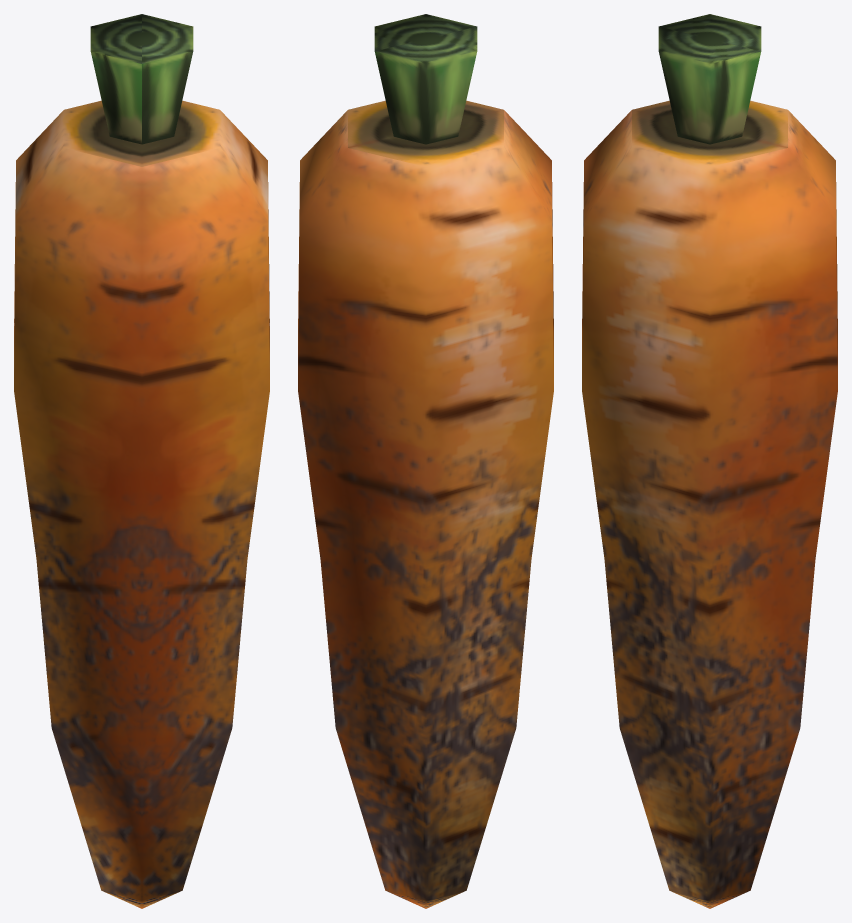
Rendered from plant_carrot.gltf.
3 renders of one model, left to right at view 1: azimuth 30°, elevation 25°; view 2: azimuth 150°, elevation 25°; view 3: azimuth 270°, elevation 25°, orthographic.
Visible parts, largest first — view 1: plant_carrot; view 2: plant_carrot; view 3: plant_carrot.
Part boxes in pixels (x1,y1,x2,y2): plant_carrot: (14, 14, 269, 908); plant_carrot: (298, 14, 553, 908); plant_carrot: (582, 14, 837, 908).
Bounding box in the file's own units: 0.0774 × 0.2514 × 0.067.
Materials: 1 (1 with a texture image).
